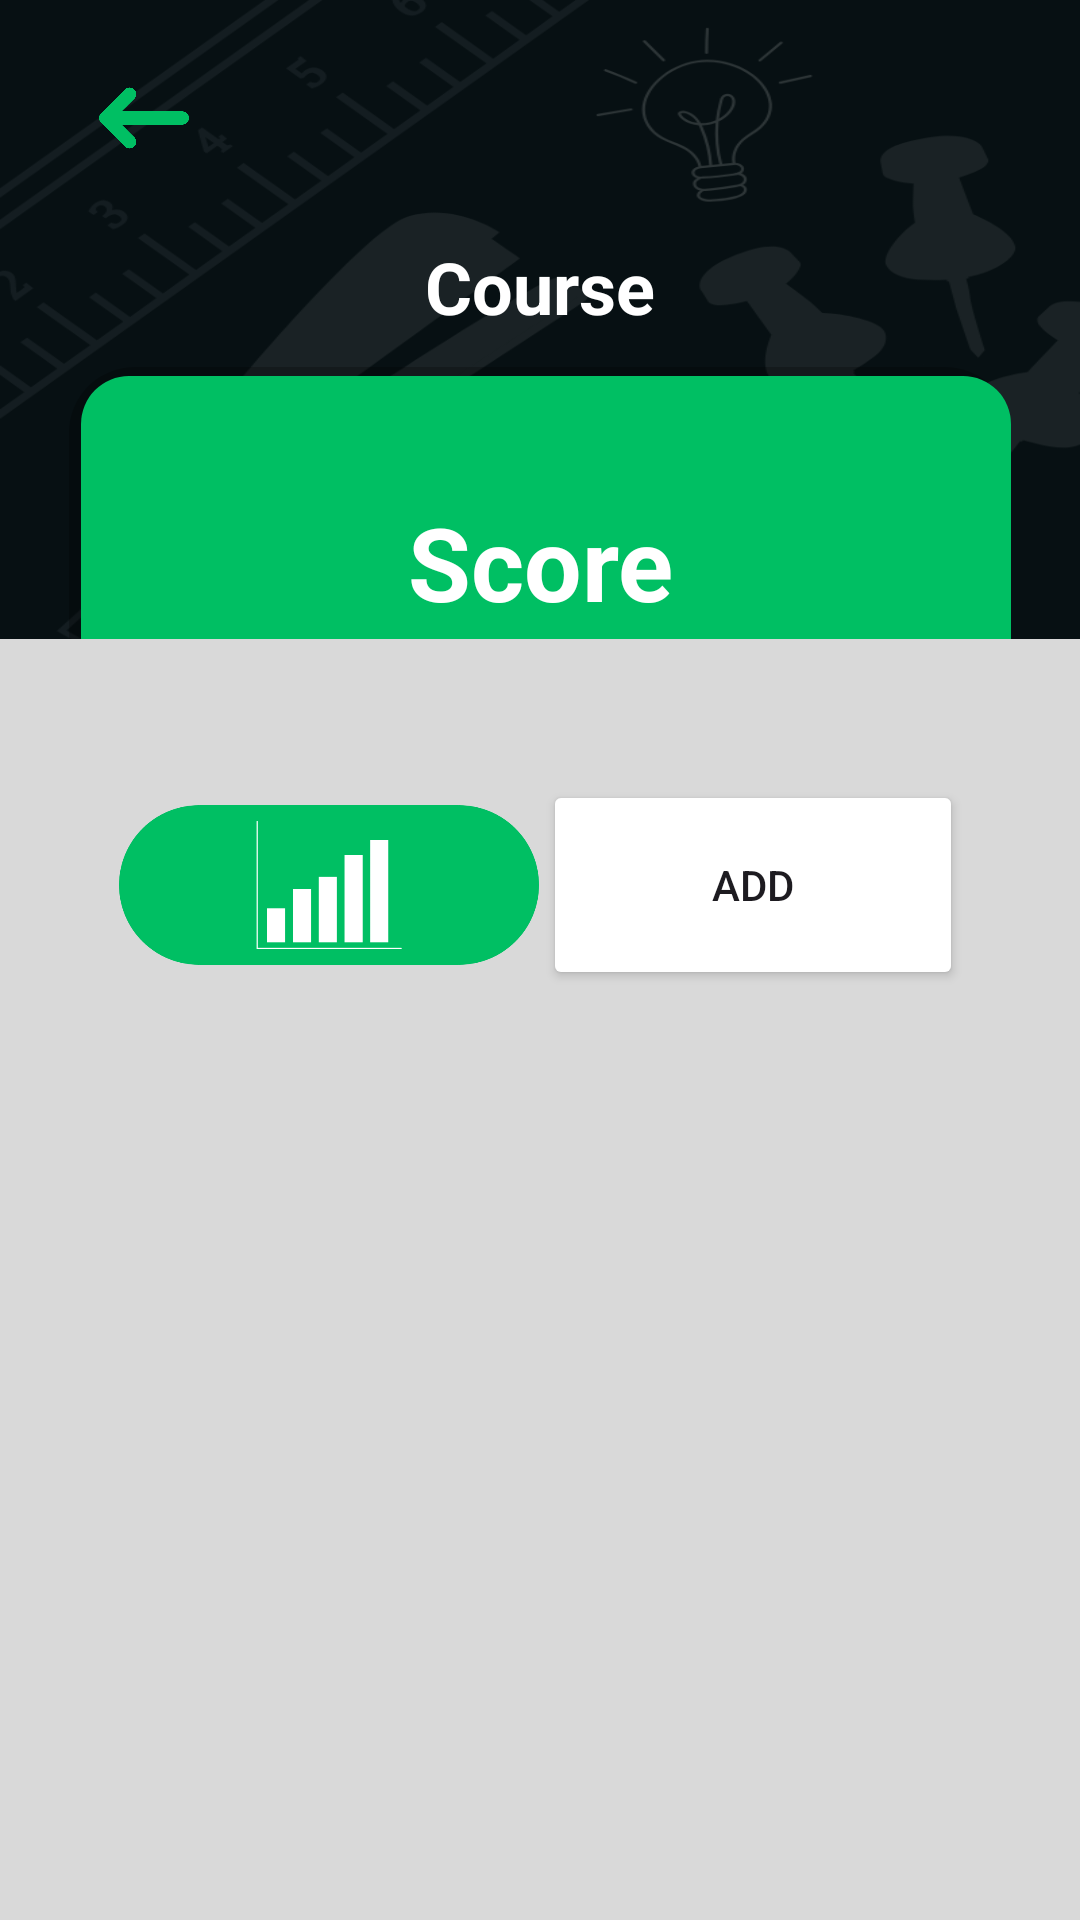

Icon click points for this 1080 × 1920 phone screenshot, format (x,y):
back: (144,118)
